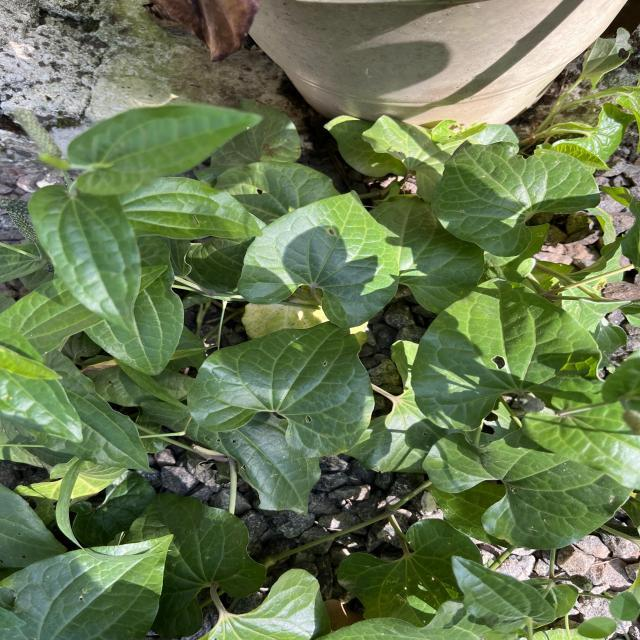Piper longum: (408, 273, 608, 432), (185, 318, 376, 460), (236, 188, 402, 330), (428, 136, 603, 258)
